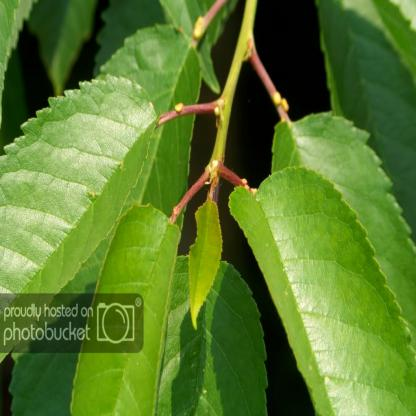cherry leaf: (226, 146, 415, 415), (0, 95, 159, 280)
